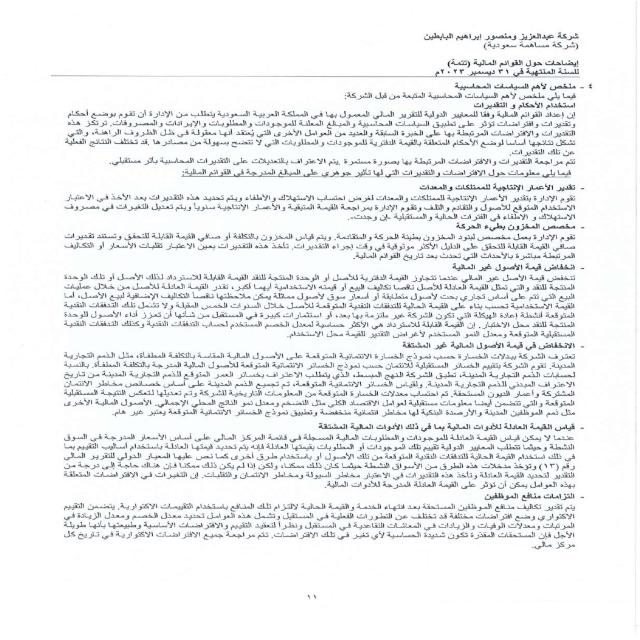notes: (444, 58, 583, 68)
text: (30, 79, 596, 577)
